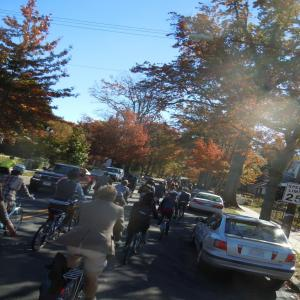Vehicle-registration-plate: (248, 250, 266, 260)
